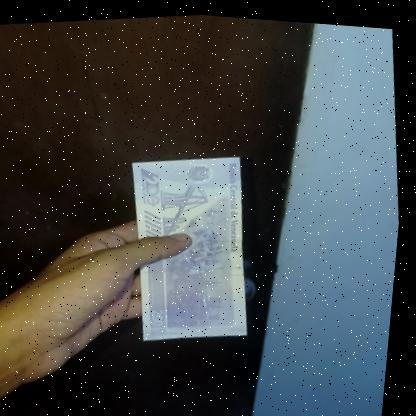two_hundred-back-vef: (120, 144, 266, 345)
